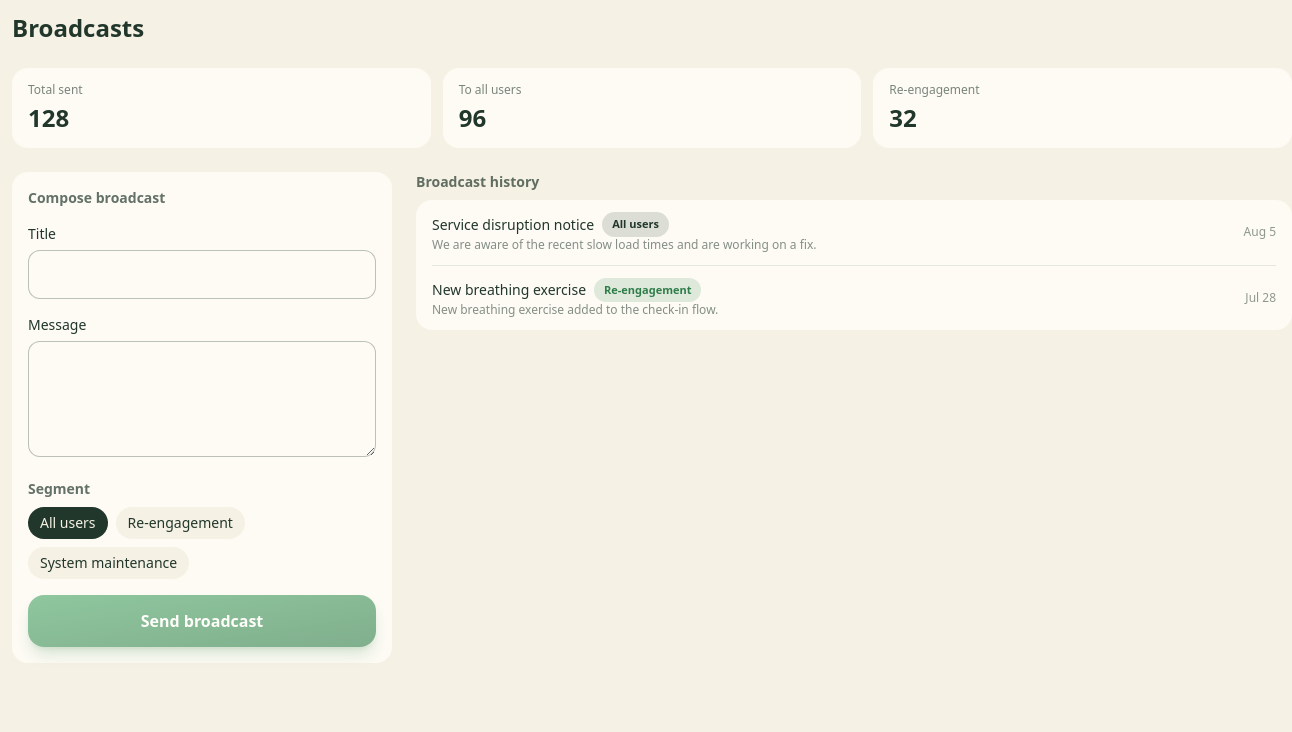
Scenario: AdminBroadcastsPage › ALL_USERS confirmation › lets the admin cancel out of the confirm step without sending anything
Type "Heads up" into the field labelled "Title".
click(202, 274); type("Heads up")  # box [28, 250, 376, 298]
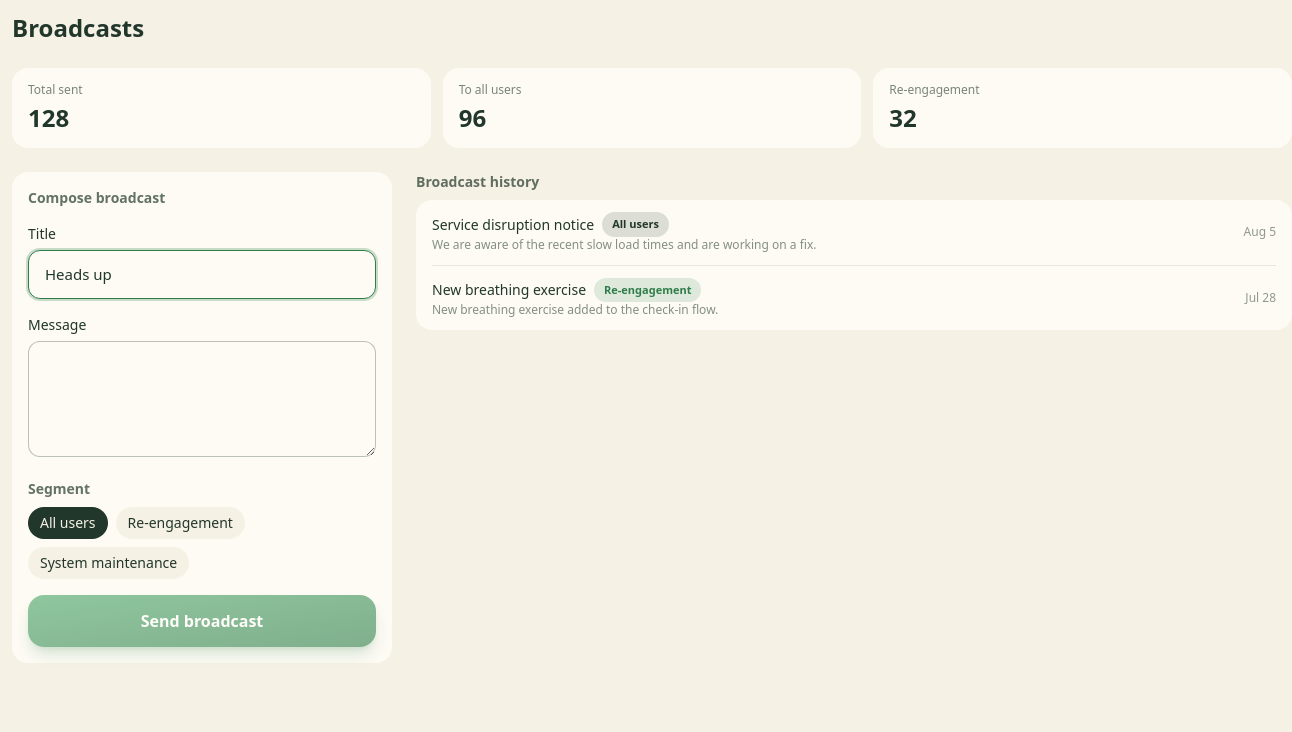
Type "Something happened" into the text box labelled "Message".
click(202, 398); type("Something happened")  # box [28, 340, 376, 456]
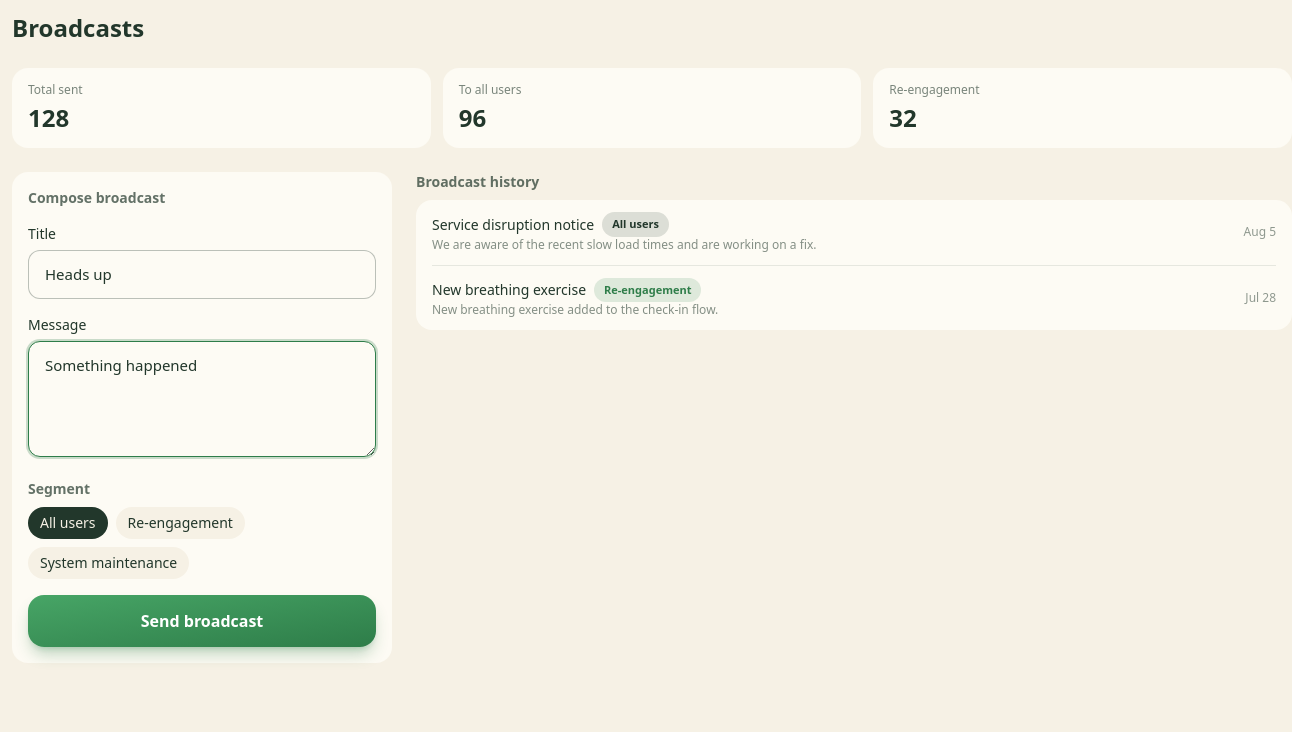
Click the button "Send broadcast".
click(202, 620)  # box [28, 594, 376, 646]
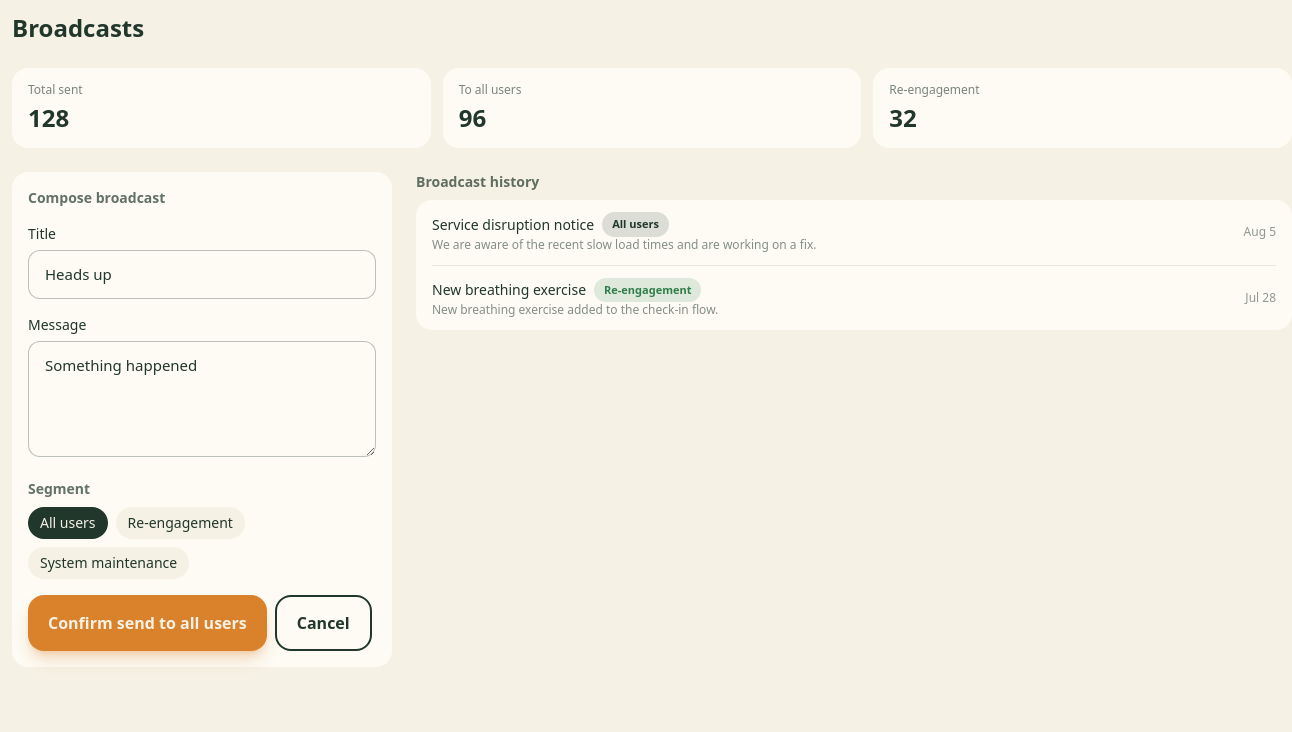
Click the button "Cancel".
click(323, 622)  # box [275, 594, 372, 650]
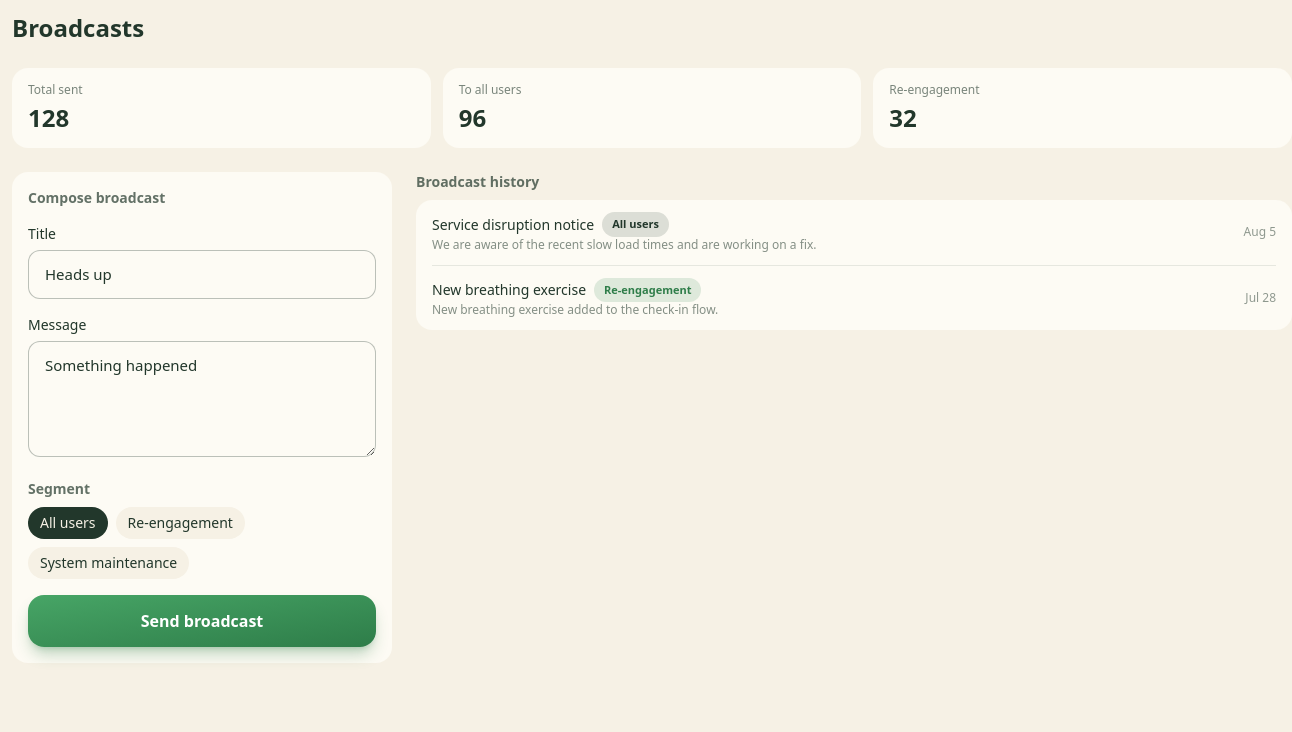
Result: the button "Confirm send to all users" is gone
Result: the button "Send broadcast" is shown at [28, 594, 376, 646]
